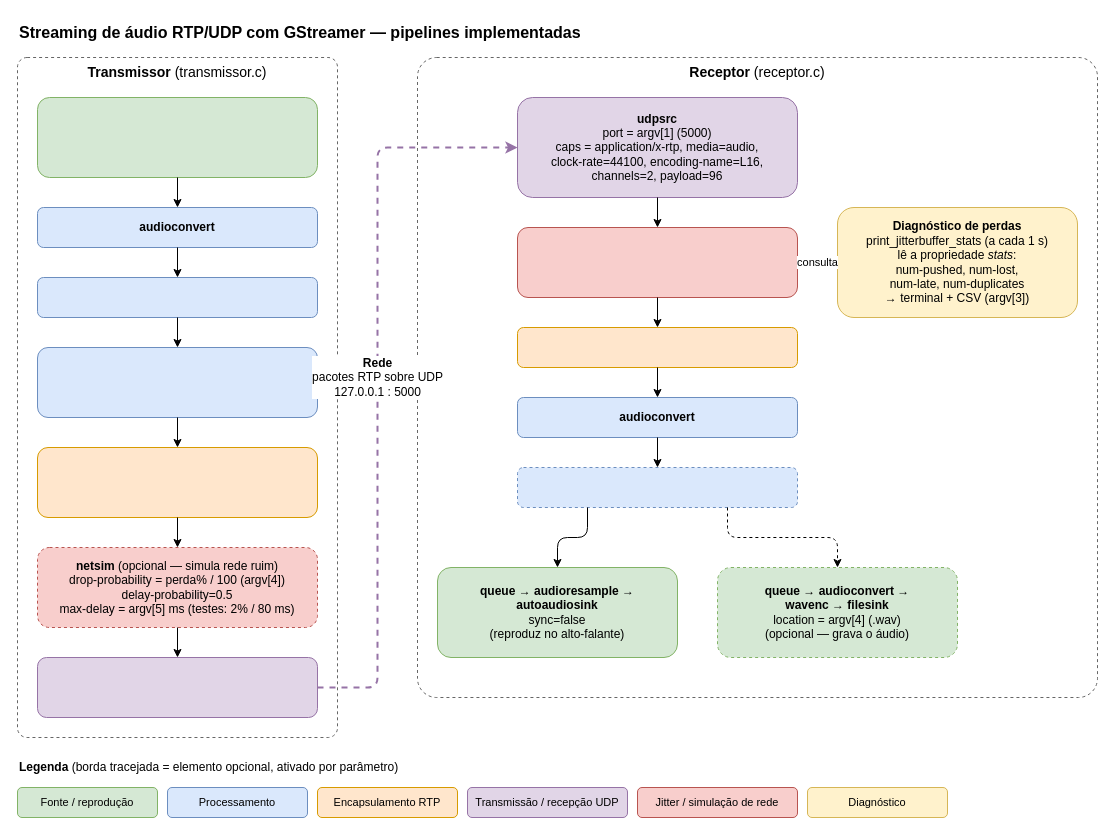
The diagram is 1115 pixels wide and 835 high, and some of its shapes have lost their labels. Each missing label, with the centre of its shape:
"audioresample" belongs at [177,297].
"audiotestsrc wave=sine freq=440 is-live=true num-buffers=500 (argv[3])" belongs at [177,137].
"caps (capsfilter) audio/x-raw, format=S16BE rate=44100, channels=2" belongs at [177,382].
"rtpjitterbuffer (name=jitbuf) latency = argv[2] ms (testes: 20 / 200 / 1000 ms)" belongs at [657,262].
"rtpL16depay" belongs at [657,347].
"rtpL16pay payload=96 (padrão) 1 buffer de áudio → 3 pacotes RTP" belongs at [177,482].
"tee (name=t — só quando há arquivo .wav)" belongs at [657,487].
"udpsink host = argv[1] (127.0.0.1) port = argv[2] (5000)" belongs at [177,687].
